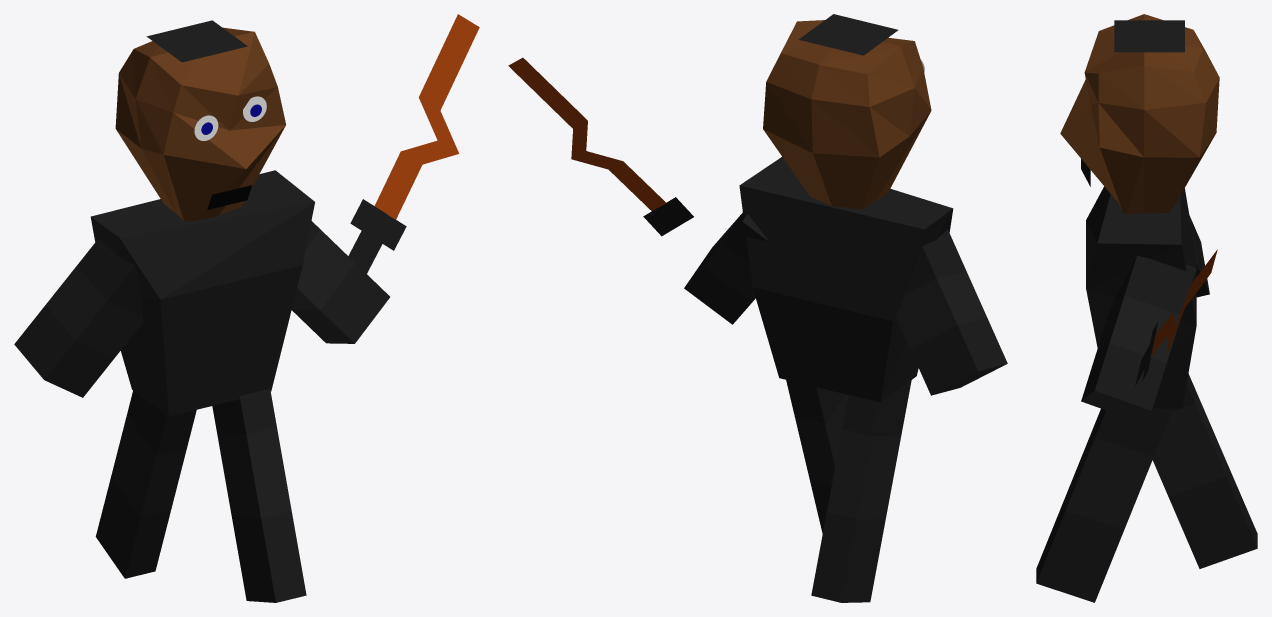
File: swordsman2.obj
3 views of the same model, side by side, from view 1: azimuth 30°, elevation 25°; view 2: azimuth 150°, elevation 25°; view 3: azimuth 270°, elevation 25° (orthographic).
Visible parts, largest first — view 1: Cube.001, Cube, Cube.005, Cube.003, Cube.004, Cube.002, Plane.003_Plane.004, Plane.004_Plane.001, Plane.002_Plane.003, Plane.001_Plane.002; view 2: Cube.001, Cube, Cube.004, Cube.003, Cube.005, Cube.002, Plane.003_Plane.004, Plane.004_Plane.001, Plane.002_Plane.003; view 3: Cube, Cube.005, Cube.001, Cube.004, Cube.002, Plane.004_Plane.001, Plane.003_Plane.004, Cube.003.
Boxes of the visible parts, x1,y1,x2,y2 form: Cube.001: (90, 170, 314, 416); Cube: (115, 27, 285, 221); Cube.005: (212, 388, 306, 602); Cube.003: (14, 238, 143, 397); Cube.004: (95, 390, 196, 578); Cube.002: (291, 221, 389, 343); Plane.003_Plane.004: (374, 14, 479, 219); Plane.004_Plane.001: (146, 20, 247, 62); Plane.002_Plane.003: (350, 199, 406, 250); Plane.001_Plane.002: (348, 227, 382, 273); Cube.001: (739, 157, 953, 402); Cube: (763, 20, 931, 209); Cube.004: (811, 380, 911, 602); Cube.003: (896, 229, 1007, 395); Cube.005: (786, 380, 848, 533); Cube.002: (684, 212, 769, 324); Plane.003_Plane.004: (508, 57, 666, 210); Plane.004_Plane.001: (798, 14, 898, 55); Plane.002_Plane.003: (643, 197, 693, 236); Cube: (1060, 14, 1219, 214); Cube.005: (1036, 408, 1172, 602); Cube.001: (1086, 186, 1196, 408); Cube.004: (1152, 373, 1257, 568); Cube.002: (1081, 255, 1196, 421); Plane.004_Plane.001: (1114, 20, 1184, 52); Plane.003_Plane.004: (1150, 249, 1217, 357); Cube.003: (1189, 215, 1209, 297).
Bounding box in the file's own units: 5.33 × 5.89 × 2.19.
